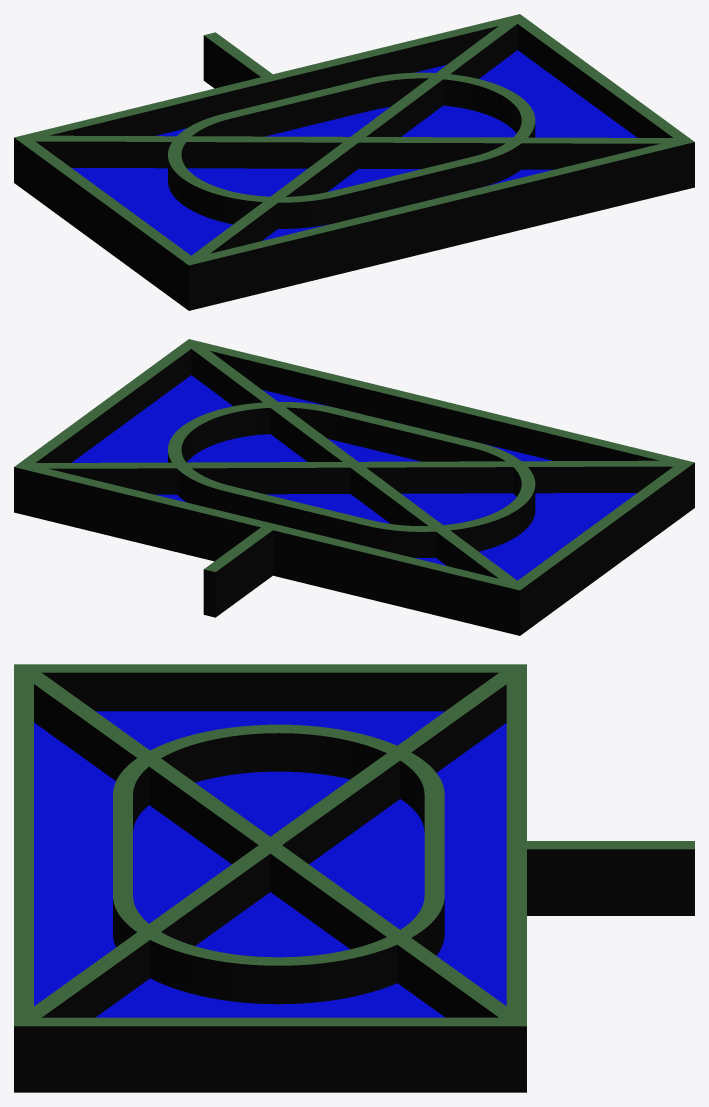
File: ORBAT_FIRENDLY_MechInf_I.dae
The picture shows the model from 3 angles, top to bottom: view 1: azimuth 30°, elevation 25°; view 2: azimuth 150°, elevation 25°; view 3: azimuth 270°, elevation 25°; orthographic projection. The views are drawn at different scales.
Parts seen in each view (by area): view 1: SM_ORBAT_-_2_path1763-2.256; view 2: SM_ORBAT_-_2_path1763-2.256; view 3: SM_ORBAT_-_2_path1763-2.256.
Part boxes in pixels (<box>): SM_ORBAT_-_2_path1763-2.256: <box>14,14,694,310</box>; SM_ORBAT_-_2_path1763-2.256: <box>14,339,694,635</box>; SM_ORBAT_-_2_path1763-2.256: <box>14,664,694,1092</box>.
Bounding box in the file's own units: 1.21 × 0.959 × 0.1034.
